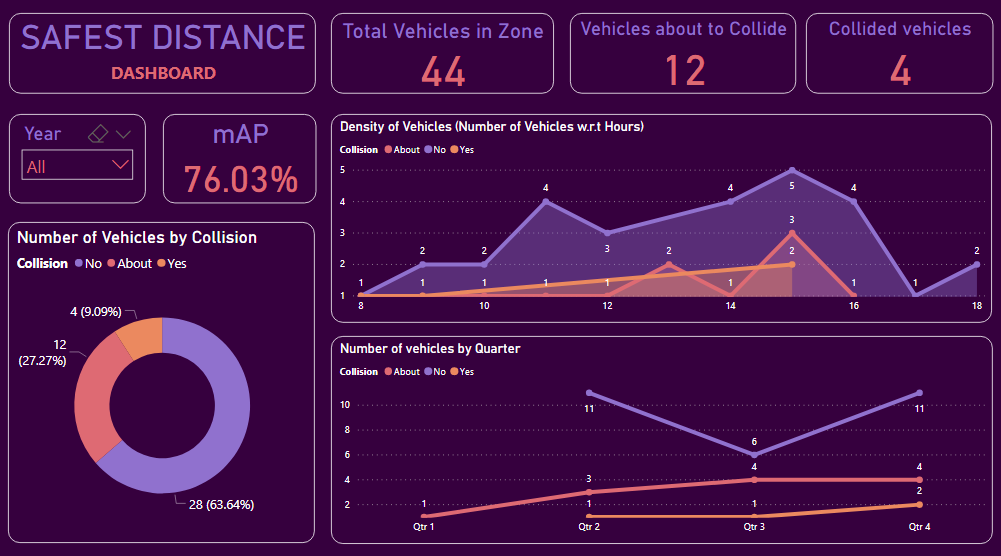

This screenshot's page, from the dashboard's own definition file:
{"tool":"powerbi","page":{"name":"Safest Distance","canvas":[1280,720],"ordinal":4},"visuals":[{"type":"card","title":"Total Vehicles in Zone","fields":{"Values":["CountNonNull(SAFEST DISTANCE.Vehicle I.D)"]},"box":[428.8,24,282.1,102.5],"z":0},{"type":"card","title":"Collided vehicles","fields":{"Values":["CountNonNull(SAFEST DISTANCE.Collision)"]},"box":[1029.6,24,236.5,102.5],"z":1},{"type":"card","title":"Vehicles about to Collide","fields":{"Values":["CountNonNull(SAFEST DISTANCE.Collision)"]},"box":[731.1,24,285.8,102.5],"z":2},{"type":"card","title":"mAP","fields":{"Values":["Avg(SAFEST DISTANCE.Precision)"]},"box":[216.3,151.8,193.5,112.6],"z":3},{"type":"textbox","title":"SAFEST DISTANCE","box":[21.5,24,388.3,102.5],"z":4},{"type":"slicer","fields":{"Values":["SAFEST DISTANCE.Date.Variation.Date Hierarchy.Year"]},"box":[21.5,151.8,173.3,112.6],"z":5},{"type":"donutChart","title":"Number of Vehicles by Collision","fields":{"Category":["SAFEST DISTANCE.Collision"],"Y":["CountNonNull(SAFEST DISTANCE.Vehicle I.D)"]},"box":[20.7,288.9,388.1,405.9],"z":6},{"type":"lineChart","title":"Number of vehicles by Quarter","fields":{"Category":["SAFEST DISTANCE.Date.Variation.Date Hierarchy.Quarter"],"Series":["SAFEST DISTANCE.Collision"],"Y":["CountNonNull(SAFEST DISTANCE.Vehicle I.D)"]},"box":[428.8,432.6,837.3,263.1],"z":7},{"type":"areaChart","title":"Density of Vehicles (Number of Vehicles w.r.t Hours)","fields":{"Series":["SAFEST DISTANCE.Collision"],"Y":["CountNonNull(SAFEST DISTANCE.Vehicle I.D)"],"Category":["SAFEST DISTANCE.Hr"]},"box":[428.8,151.8,836,264.3],"z":8}]}

Visuals, with their boxes in screenshot pixels (x1, y1, x2, y2), scaled from the page's 1280x720 canvas onto the 1001x556 screenshot:
"Total Vehicles in Zone" card: [left=335, top=19, right=556, bottom=98]
"Collided vehicles" card: [left=805, top=19, right=990, bottom=98]
"Vehicles about to Collide" card: [left=572, top=19, right=795, bottom=98]
"mAP" card: [left=169, top=117, right=320, bottom=204]
"SAFEST DISTANCE" textbox: [left=17, top=19, right=320, bottom=98]
slicer - SAFEST DISTANCE.Date.Variation.Date Hierarchy.Year: [left=17, top=117, right=152, bottom=204]
"Number of Vehicles by Collision" donutChart: [left=16, top=223, right=320, bottom=537]
"Number of vehicles by Quarter" lineChart: [left=335, top=334, right=990, bottom=537]
"Density of Vehicles (Number of Vehicles w.r.t Hours)" areaChart: [left=335, top=117, right=989, bottom=321]
